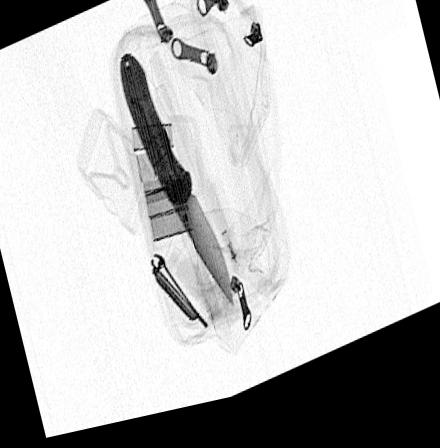Knife: (117, 56, 234, 319)
